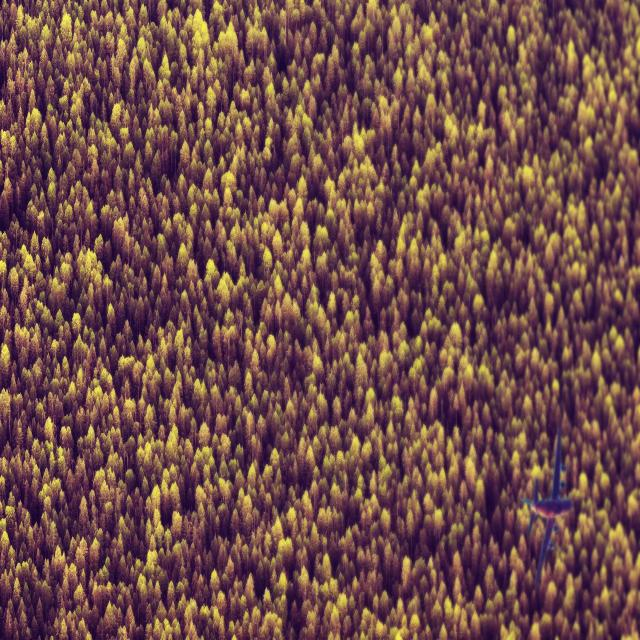airplane: (520, 425, 572, 589)
